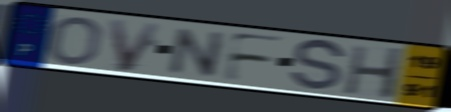F: (219, 30, 288, 84)
H: (342, 44, 407, 102)
N: (164, 26, 230, 79)
O: (45, 14, 105, 67)
S: (287, 38, 348, 94)
V: (106, 17, 165, 74)
